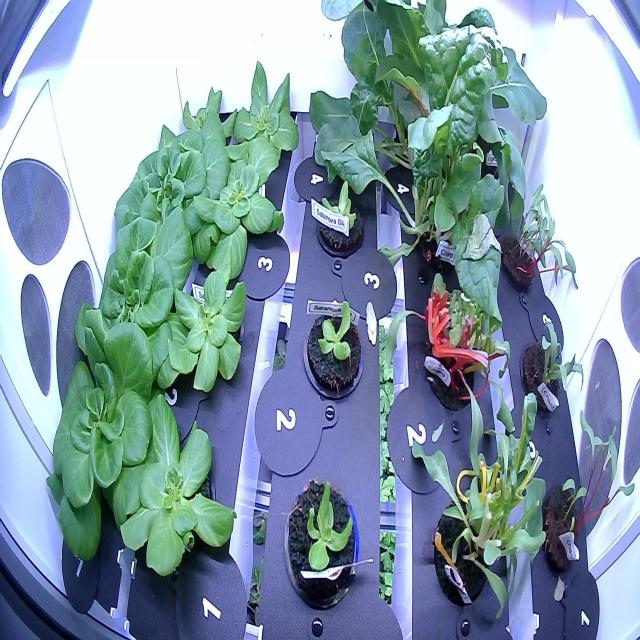young: (33, 302, 188, 569), (99, 387, 242, 601), (68, 197, 200, 407), (108, 122, 232, 308), (159, 254, 258, 398), (184, 146, 288, 279), (277, 466, 365, 617), (221, 54, 307, 185), (296, 293, 371, 402), (165, 80, 244, 182), (309, 168, 370, 268)
